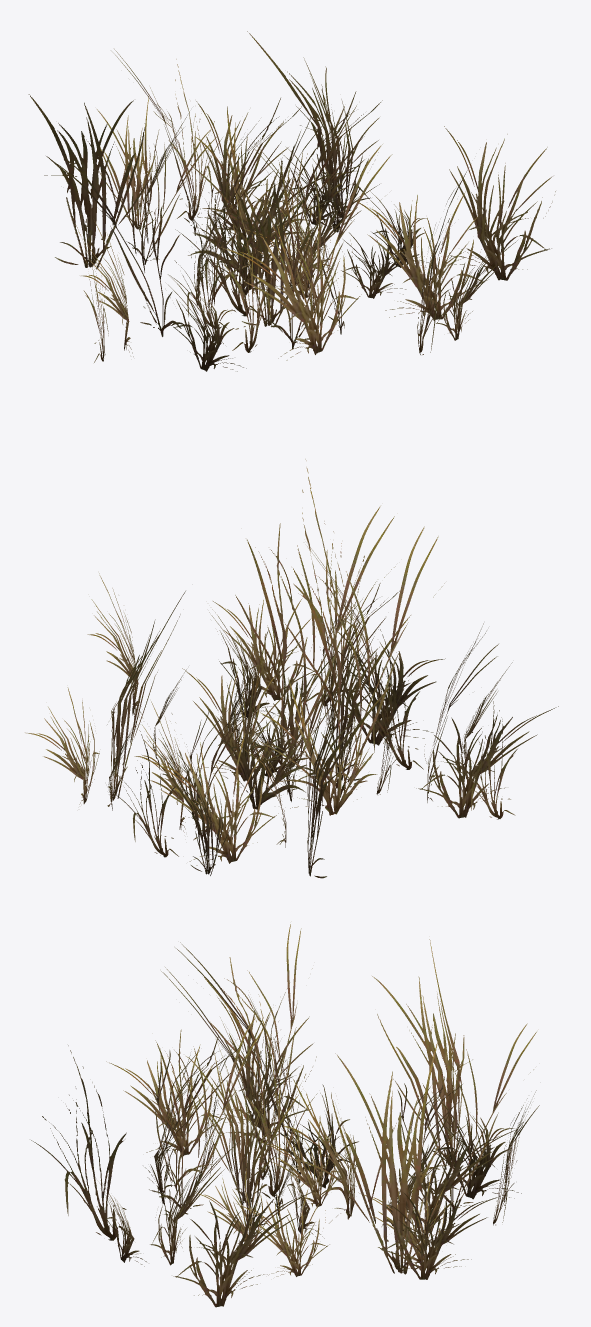
3 views of the same model, one above another, from view 1: azimuth 30°, elevation 25°; view 2: azimuth 150°, elevation 25°; view 3: azimuth 270°, elevation 25° (orthographic). The views are drawn at different scales.
Visible parts, largest first — view 1: grasspatch1; view 2: grasspatch1; view 3: grasspatch1.
Boxes of the visible parts, x1,y1,x2,y2 form: grasspatch1: (28, 31, 555, 371); grasspatch1: (25, 459, 558, 878); grasspatch1: (31, 924, 539, 1307).
Bounding box in the file's own units: 1.12 × 0.6 × 1.14.
1 material, 1 textured.
